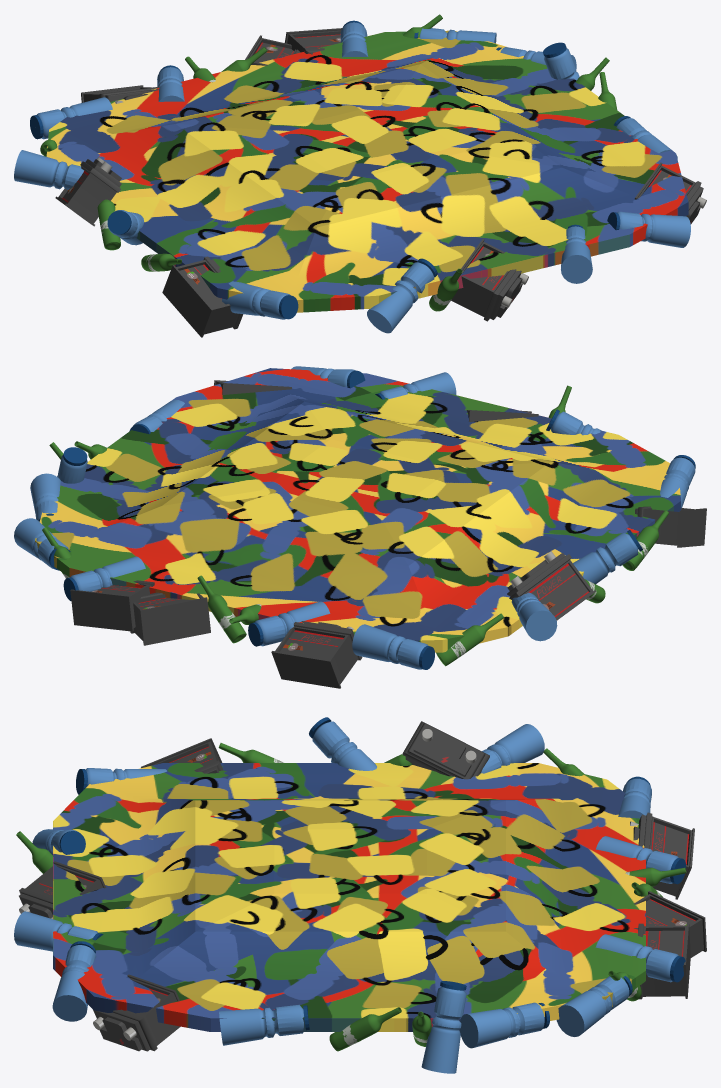
File: Soep.fbx
3 renders of one model, top to bottom at view 1: azimuth 30°, elevation 25°; view 2: azimuth 150°, elevation 25°; view 3: azimuth 270°, elevation 25°, orthographic. The views are drawn at different scales.
Visible parts, largest first — view 1: group2_pasted__pCylinder1; view 2: group2_pasted__pCylinder1; view 3: group2_pasted__pCylinder1.
Part boxes in pixels (bbox=[...]): group2_pasted__pCylinder1: bbox=[14, 14, 706, 337]; group2_pasted__pCylinder1: bbox=[14, 366, 706, 688]; group2_pasted__pCylinder1: bbox=[14, 717, 706, 1073].
Bounding box in the file's own units: 10.08 × 1.75 × 10.03.
